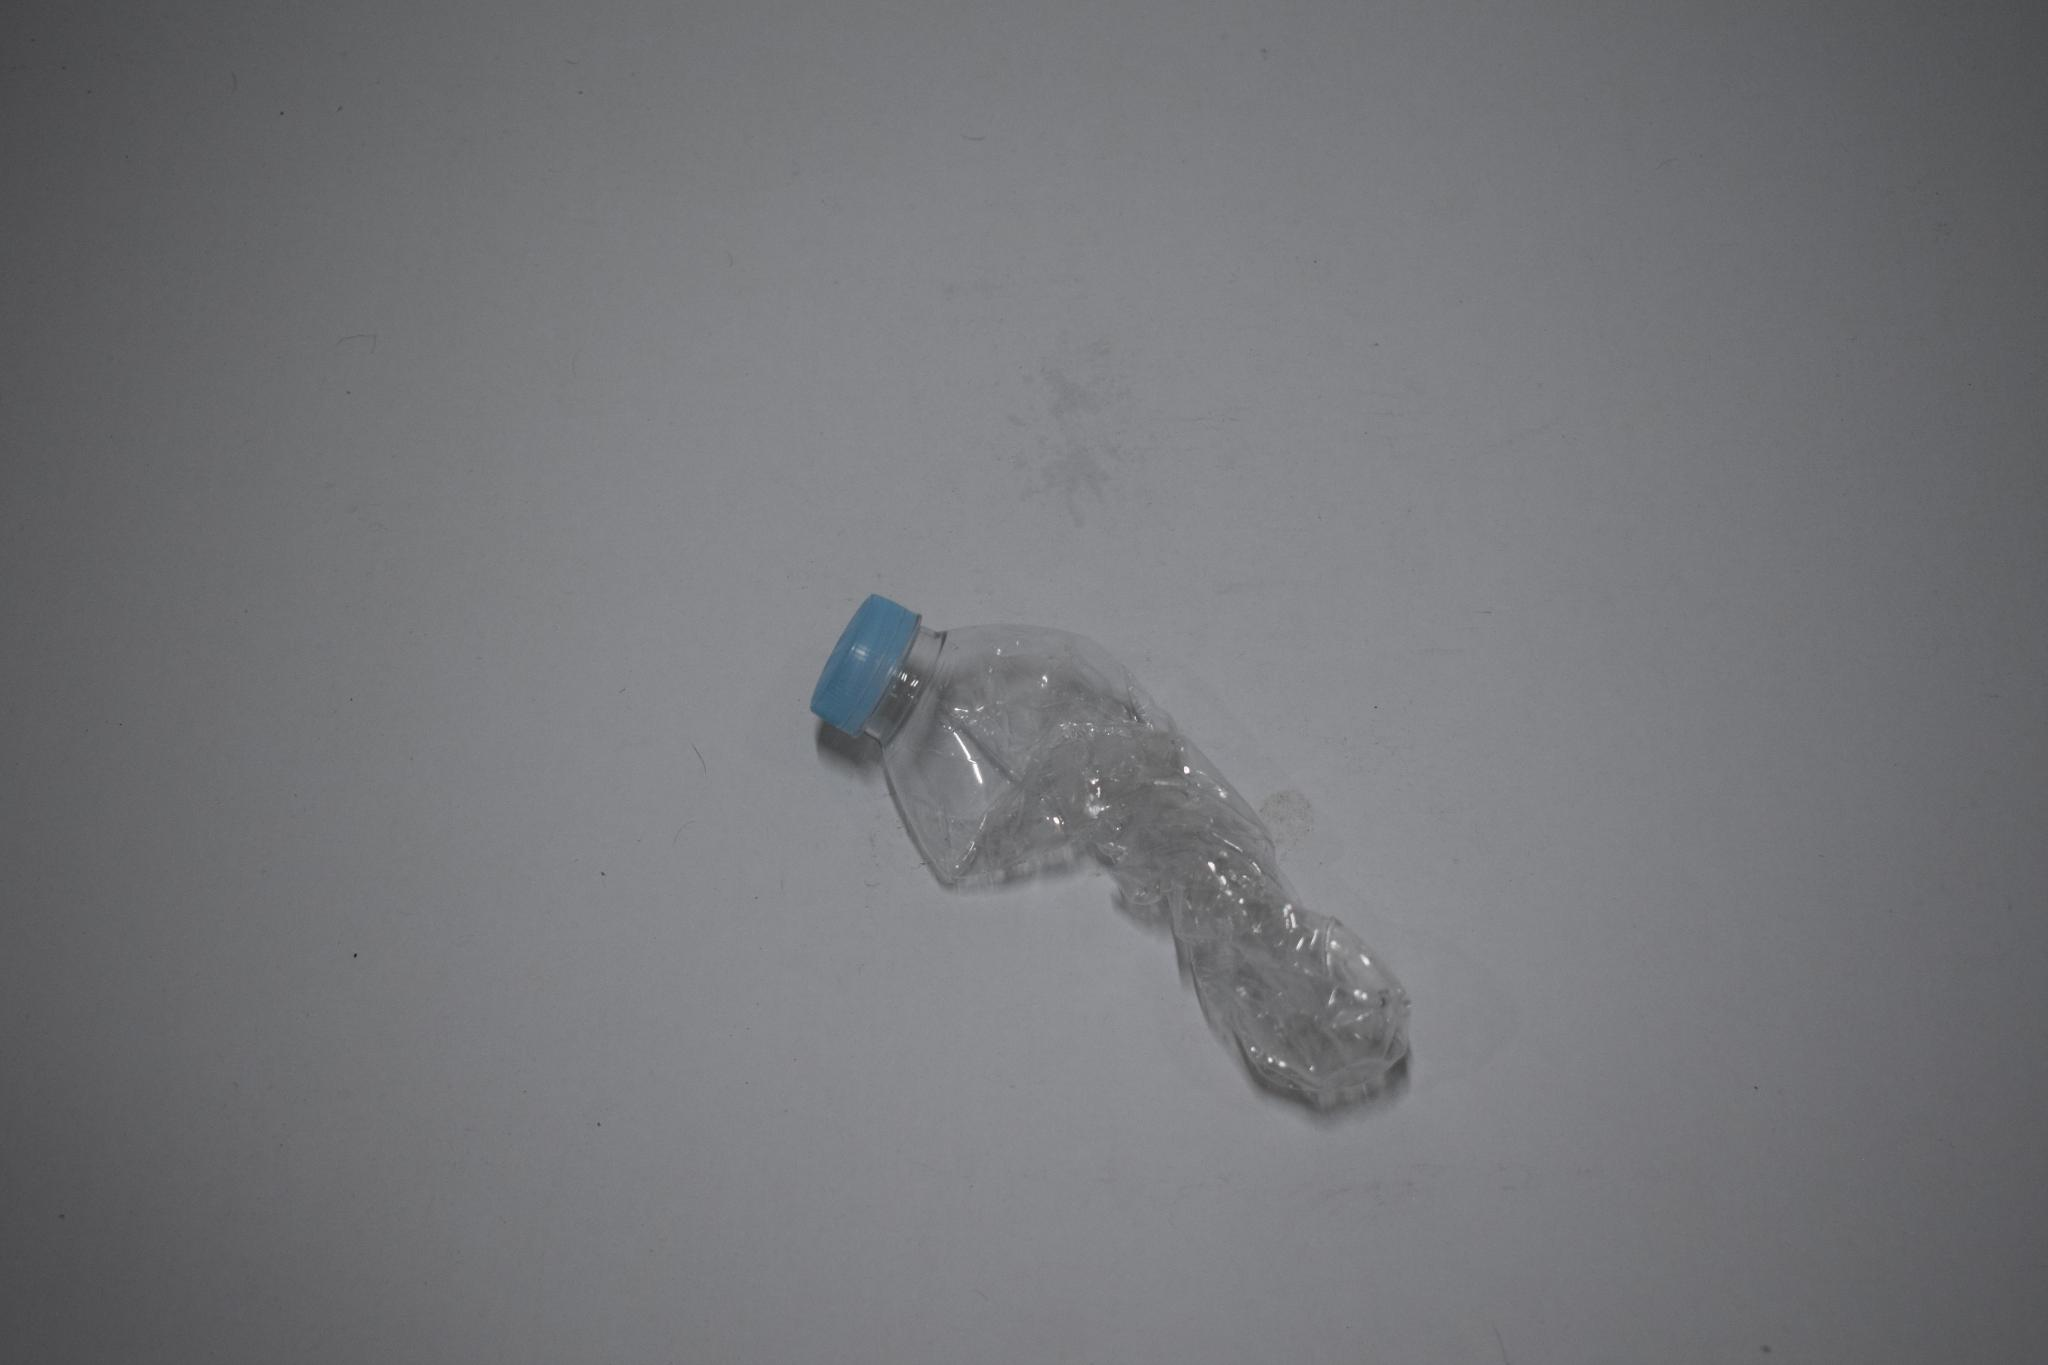bottle: (799, 497, 1454, 1133)
